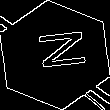N_W: (25, 32, 85, 78)
